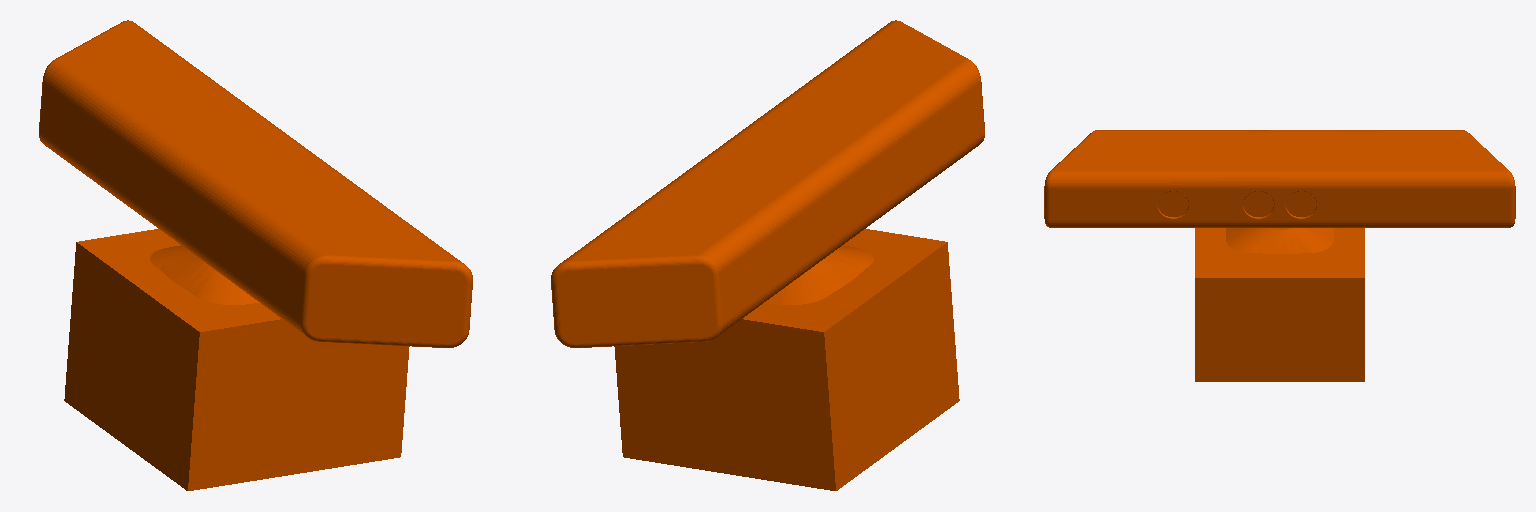
URDF robot description (robot):
<?xml version="1.0" ?>
<robot name="robot">
  <joint name="right_front" type="revolute">
    <parent link="base_link"/>
    <child link="right_front_wheel"/>
    <origin rpy="1.5707  0      0" xyz="0.125 -0.201  0.12"/>
    <axis xyz="0.00000000e+00   9.00000000e-05  -1.00000000e+00"/>
    <limit effort="0" lower="0" upper="0" velocity="0"/>
  </joint>
  <joint name="right_rear" type="revolute">
    <parent link="base_link"/>
    <child link="right_rear_wheel"/>
    <origin rpy="1.5707  0      0" xyz="-0.125 -0.201  0.12"/>
    <axis xyz="0.00000000e+00   9.00000000e-05  -1.00000000e+00"/>
    <limit effort="0" lower="0" upper="0" velocity="0"/>
  </joint>
  <joint name="left_front" type="revolute">
    <parent link="base_link"/>
    <child link="left_front_wheel"/>
    <origin rpy="1.5707  0      0" xyz="0.125  0.201  0.12"/>
    <axis xyz="0.00000000e+00   9.00000000e-05  -1.00000000e+00"/>
    <limit effort="0" lower="0" upper="0" velocity="0"/>
  </joint>
  <joint name="left_rear" type="revolute">
    <parent link="base_link"/>
    <child link="left_rear_wheel"/>
    <origin rpy="1.5707  0      0" xyz="-0.125  0.201  0.12"/>
    <axis xyz="0.00000000e+00   9.00000000e-05  -1.00000000e+00"/>
    <limit effort="0" lower="0" upper="0" velocity="0"/>
  </joint>

  <joint name="camera_joint" type="fixed">
    <parent link="base_link"/>
    <child link="camera_link"/>
    <origin rpy="0  0.08  0" xyz="0.1   0    0.37"/>
    <axis xyz="0  0  1"/>
    <limit effort="0.0" lower="0.0" upper="0.0" velocity="0.0"/>
  </joint>
  <joint name="depth_joint" type="fixed">
    <parent link="camera_link"/>
    <child link="depth_link"/>
    <origin rpy="-1.58  0  -1.58" xyz="0   0    0"/>
    <axis xyz="0  0  1"/>
    <limit effort="0.0" lower="0.0" upper="0.0" velocity="0.0"/>
  </joint>

  <link name="base_link">
    <inertial>
      <mass value="14.0"/>
      <origin rpy="0  0  0" xyz="0    0    0.18"/>
      <inertia ixx="0.147116667" ixy="0.0" ixz="0.0" iyy="0.334951167" iyz="0.0" izz="0.3978345"/>
    </inertial>
    <collision name="collision1">
      <origin rpy="0  0  0" xyz="0    0    0.18"/>
      <geometry>
        <box size="0.501 0.300 0.19"/>
      </geometry>
    </collision>
    <visual name="visual1">
      <origin rpy="0  0  0" xyz="0    0    0.18"/>
      <geometry>
        <mesh filename="package://pioneer3at_description/meshes/chassis.dae" scale="1.0 1.0 1.0"/>
      </geometry>
    </visual>
  </link>
  <link name="right_front_wheel">
    <inertial>
      <mass value="1.5"/>
      <origin rpy="0  0  0" xyz="0  0  0"/>
      <inertia ixx="0.005240625" ixy="0" ixz="0" iyy="0.005240625" iyz="0" izz="0.009075"/>
    </inertial>
    <collision name="collision">
      <origin rpy="0  0  0" xyz="0  0  0"/>
      <geometry>
        <cylinder length="0.075" radius="0.110"/>
      </geometry>
    </collision>
    <visual name="visual">
      <origin rpy="0  0  0" xyz="0  0  0"/>
      <geometry>
        <mesh filename="package://pioneer3at_description/meshes/wheel.dae" scale="1.0 1.0 1.0"/>
      </geometry>
    </visual>
  </link>
  <link name="left_front_wheel">
    <inertial>
      <mass value="1.5"/>
      <origin rpy="0  0  0" xyz="0  0  0"/>
      <inertia ixx="0.005240625" ixy="0" ixz="0" iyy="0.005240625" iyz="0" izz="0.009075"/>
    </inertial>
    <collision name="collision">
      <origin rpy="0  0  0" xyz="0  0  0"/>
      <geometry>
        <cylinder length="0.075" radius="0.110"/>
      </geometry>
    </collision>
    <visual name="visual">
      <origin rpy="0  0  0" xyz="0  0  0"/>
      <geometry>
        <mesh filename="package://pioneer3at_description/meshes/wheel.dae" scale="1.0 1.0 1.0"/>
      </geometry>
    </visual>
  </link>
  <link name="right_rear_wheel">
    <inertial>
      <mass value="1.5"/>
      <origin rpy="0  0  0" xyz="0  0  0"/>
      <inertia ixx="0.005240625" ixy="0" ixz="0" iyy="0.005240625" iyz="0" izz="0.009075"/>
    </inertial>
    <collision name="collision">
      <origin rpy="0  0  0" xyz="0  0  0"/>
      <geometry>
        <cylinder length="0.075" radius="0.110"/>
      </geometry>
    </collision>
    <visual name="visual">
      <origin rpy="0  0  0" xyz="0  0  0"/>
      <geometry>
        <mesh filename="package://pioneer3at_description/meshes/wheel.dae" scale="1.0 1.0 1.0"/>
      </geometry>
    </visual>
  </link>
  <link name="left_rear_wheel">
    <inertial>
      <mass value="1.5"/>
      <origin rpy="0  0  0" xyz="0  0  0"/>
      <inertia ixx="0.005240625" ixy="0" ixz="0" iyy="0.005240625" iyz="0" izz="0.009075"/>
    </inertial>
    <collision name="collision">
      <origin rpy="0  0  0" xyz="0  0  0"/>
      <geometry>
        <cylinder length="0.075" radius="0.110"/>
      </geometry>
    </collision>
    <visual name="visual">
      <origin rpy="0  0  0" xyz="0  0  0"/>
      <geometry>
        <mesh filename="package://pioneer3at_description/meshes/wheel.dae" scale="1.0 1.0 1.0"/>
      </geometry>
    </visual>
  </link>

  <link name="camera_link">
    <inertial>
      <mass value="0.1"/>
      <origin rpy="0  0  0" xyz="0  0  0"/>
      <inertia ixx="0.000166667" ixy="0" ixz="0" iyy="0.000166667" iyz="0" izz="0.000166667"/>
    </inertial>
    <collision name="collision-box">
      <origin rpy="0  0  0" xyz="-0.025  0    -0.07"/>
      <geometry>
        <box size="0.1 0.1 0.07"/>
      </geometry>
    </collision>
    <visual name="visual-box">
      <origin rpy="0  0  0" xyz="-0.025  0    -0.07"/>
      <geometry>
        <box size="0.1 0.1 0.07"/>
      </geometry>
    </visual>

    <collision name="collision">
      <origin rpy="0  0  0" xyz="0  0    0"/>
      <geometry>
        <box size="0.073 0.276 0.072"/>
      </geometry>
    </collision>
    <visual name="visual">
      <origin rpy="0  0  0" xyz="0  0  0"/>
      <geometry>
        <mesh filename="package://pioneer3at_description/meshes/kinect.dae" scale="1.0 1.0 1.0"/>
      </geometry>
    </visual>
  </link>

  <link name="depth_link"/>
  
  <transmission name="right_front_transmssion">
    <type>transmission_interface/SimpleTransmission</type>
    <joint name="right_front">
      <hardwareInterface>hardware_interface/EffortJointInterface</hardwareInterface>
      <mechanicalReduction>1</mechanicalReduction>
    </joint>
    <actuator name="right_front_motor">
      <hardwareInterface>hardware_interface/EffortJointInterface</hardwareInterface>
      <mechanicalReduction>1</mechanicalReduction>
    </actuator>
  </transmission>
  <transmission name="right_rear_transmssion">
    <type>transmission_interface/SimpleTransmission</type>
    <joint name="right_rear">
      <hardwareInterface>hardware_interface/EffortJointInterface</hardwareInterface>
      <mechanicalReduction>1</mechanicalReduction>
    </joint>
    <actuator name="right_rear_motor">
      <hardwareInterface>hardware_interface/EffortJointInterface</hardwareInterface>
      <mechanicalReduction>1</mechanicalReduction>
    </actuator>
  </transmission>
  <transmission name="left_front_transmssion">
    <type>transmission_interface/SimpleTransmission</type>
    <joint name="left_front">
      <hardwareInterface>hardware_interface/EffortJointInterface</hardwareInterface>
      <mechanicalReduction>1</mechanicalReduction>
    </joint>
    <actuator name="left_front_motor">
      <hardwareInterface>hardware_interface/EffortJointInterface</hardwareInterface>
      <mechanicalReduction>1</mechanicalReduction>
    </actuator>
  </transmission>
  <transmission name="left_rear_transmssion">
    <type>transmission_interface/SimpleTransmission</type>
    <joint name="left_rear">
      <hardwareInterface>hardware_interface/EffortJointInterface</hardwareInterface>
      <mechanicalReduction>1</mechanicalReduction>
    </joint>
    <actuator name="left_rear_motor">
      <hardwareInterface>hardware_interface/EffortJointInterface</hardwareInterface>
      <mechanicalReduction>1</mechanicalReduction>
    </actuator>
  </transmission>
</robot>

--- Render facts (derived) ---
3 views of the same robot in one strip: view 1: azimuth 30°, elevation 25°; view 2: azimuth 150°, elevation 25°; view 3: azimuth 270°, elevation 25° (orthographic).
Model robot with 7 links and 6 joints (4 revolute, 2 fixed), rooted at base_link, posed every joint at zero.
Visible links, largest first — view 1: camera_link; view 2: camera_link; view 3: camera_link.
Boxes of the visible links, box(x1,y1,x2,y2) form: camera_link: box(39, 20, 472, 490); camera_link: box(551, 20, 984, 490); camera_link: box(1044, 130, 1515, 381).
Size in the robot's own frame: 0.1053 by 0.276 by 0.1299 metres.
Meshes: 3 distinct files referenced, 1 mesh visuals loaded (1 Collada DAE); not drawn: 5 (reference not matched to a file when rendering).